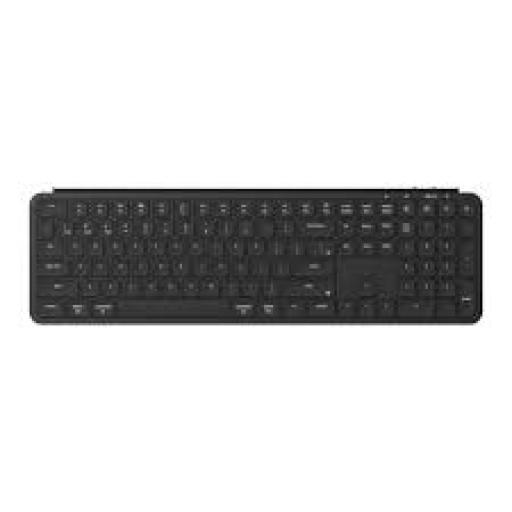keyboard: (30, 189, 480, 321)
